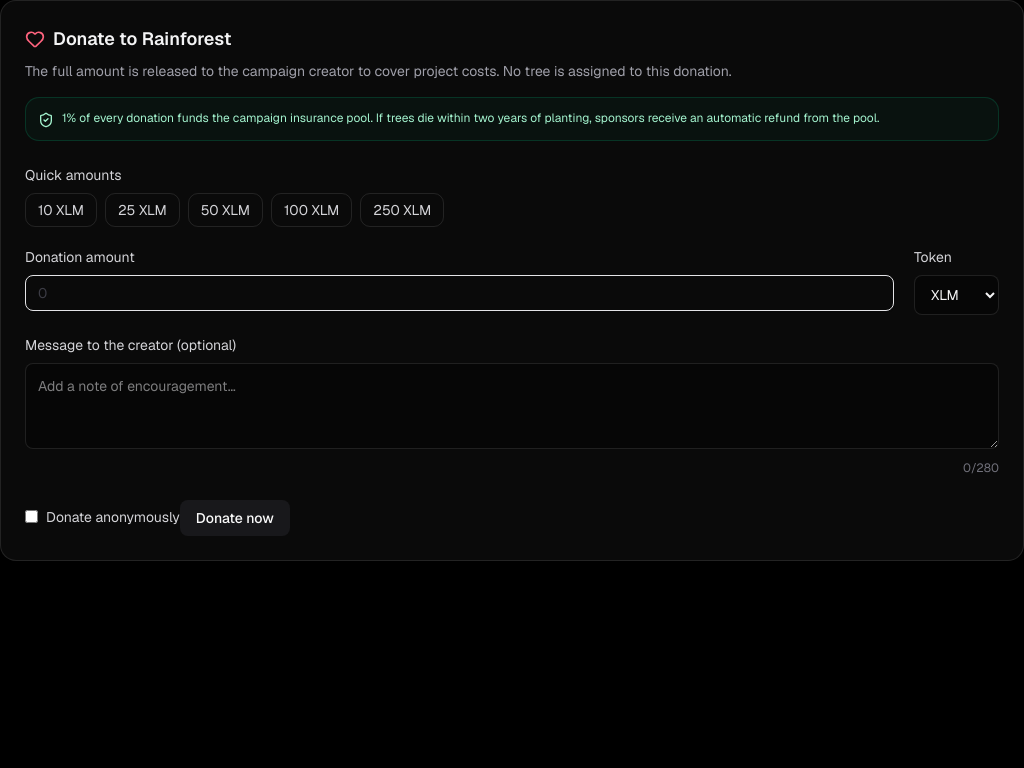
Test case: CampaignDonationPanel (#1001) › surfaces an API error without showing a receipt
Type "25" into the field with test id "donation-amount".
click(460, 293); type("25")  # box x1=25 y1=275 x2=894 y2=311
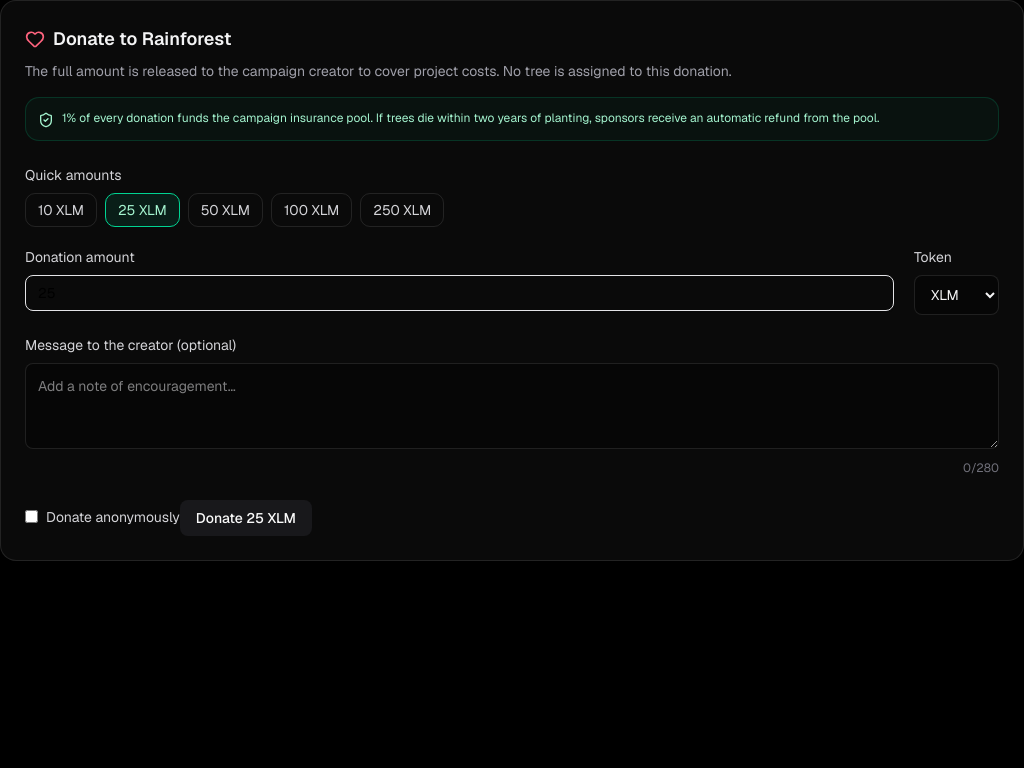
Click the button with test id "donation-submit".
click(246, 518)  # box x1=180 y1=500 x2=312 y2=536
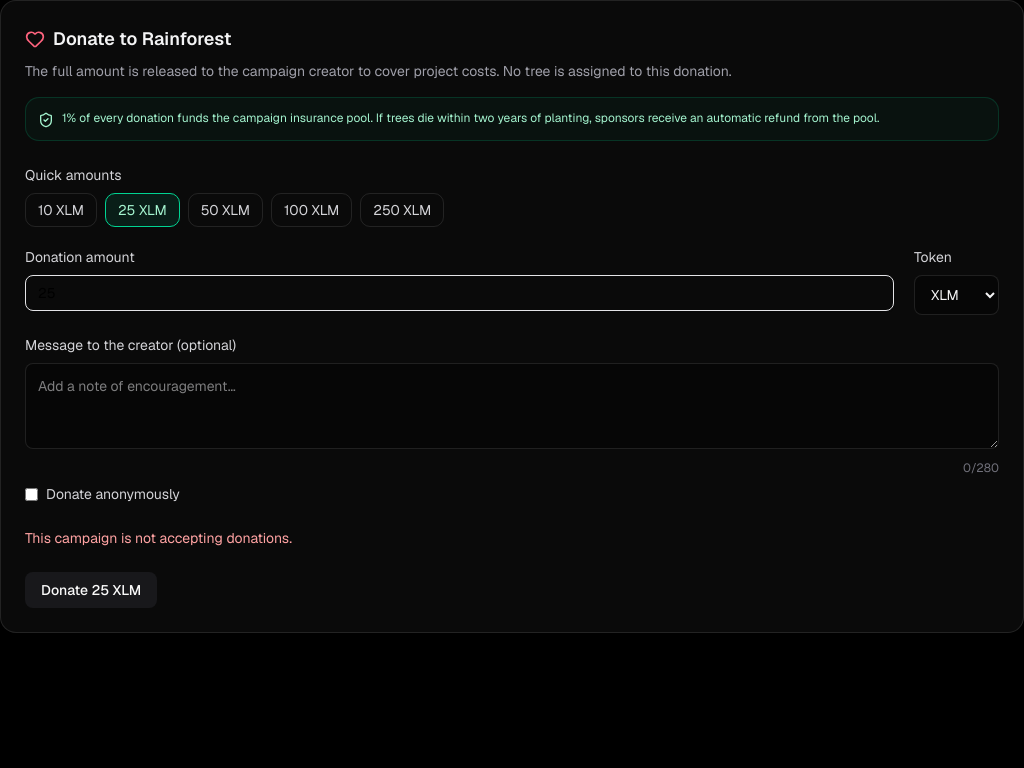
expect the message with test id "donation-error" shows "not accepting donations": met, box x1=25 y1=528 x2=292 y2=546
